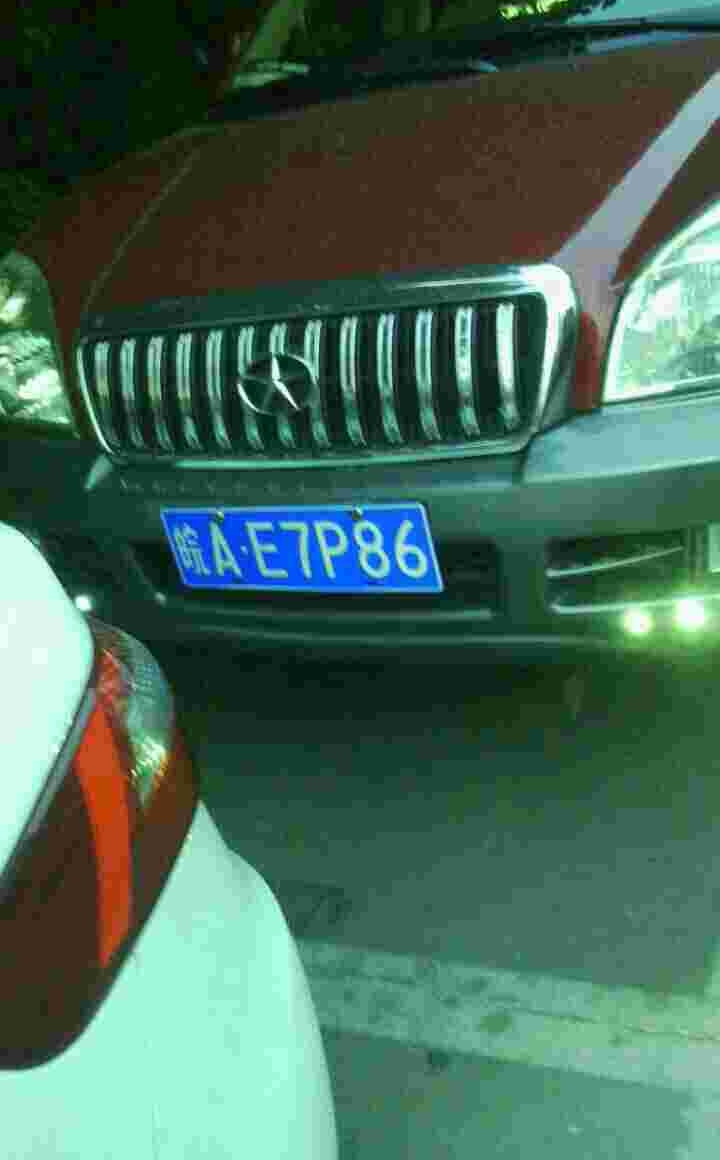license_plate: (172, 504, 445, 599)
